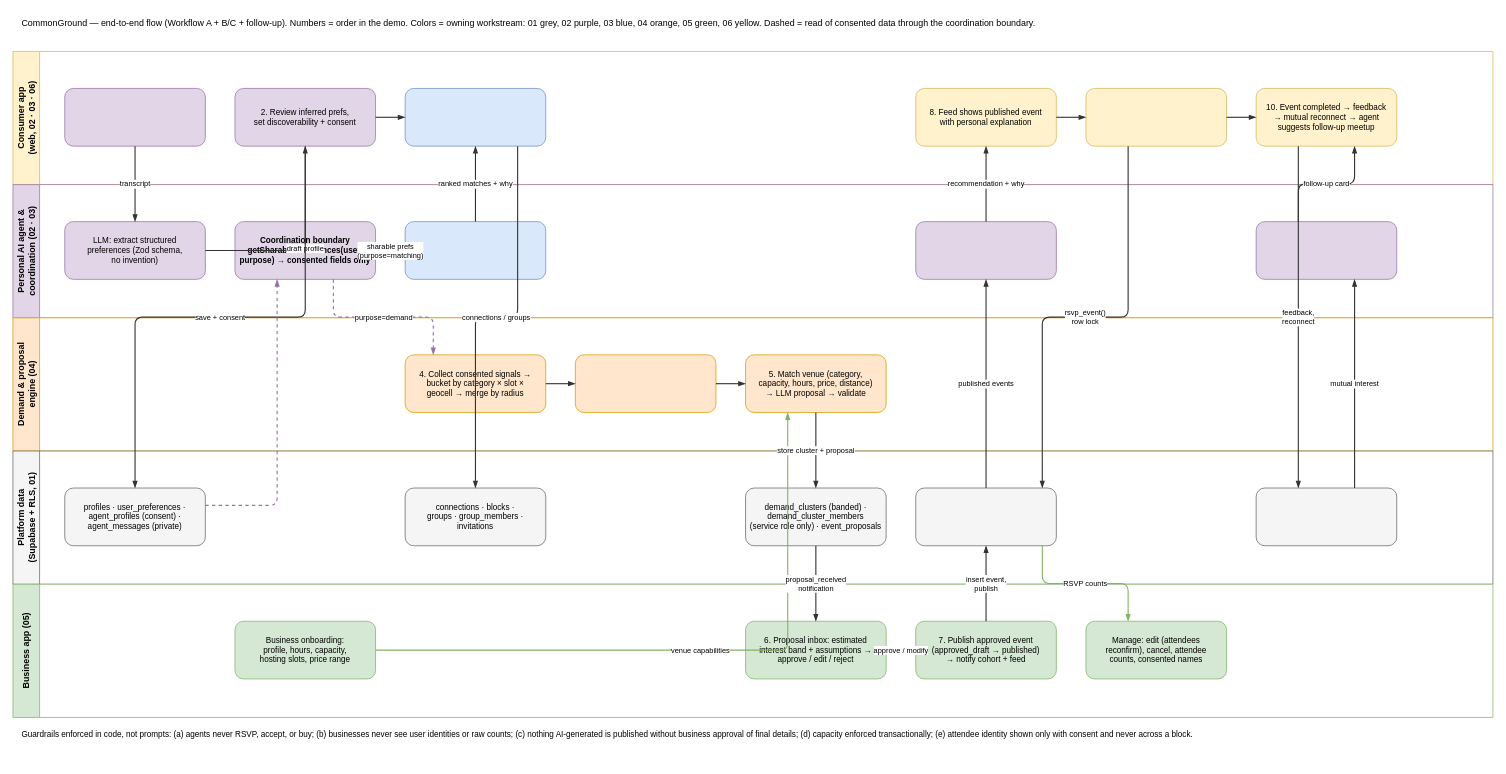
Image size: 1506x774. Some labels were removed from this diagram. The shapes that lost their labels are listed below. From the top down, each one's centre as x and y in pixels, then its label:
(134,117): 1. Sign up, adult check, onboarding chat with agent
(475,117): 3. Match page: compatible people + why · connect · create group
(1156,117): 9. RSVP (capacity-safe) · see consenting attendees · invite group
(475,250): Compatibility engine: hard filters + weighted score 35/25/20/10/10 + explanation
(985,250): Explain recommendation (fast model, grounded, post-checked)
(1326,250): Follow-up suggestion (only on mutual consent)
(645,383): Privacy threshold: cohort ≥ MIN_COHORT_SIZE (4), raw counts → bands
(985,516): events (status machine) · rsvps (rsvp_event RPC) · notifications
(1326,516): event_feedback · reconnect_interest · follow_up_suggestions
